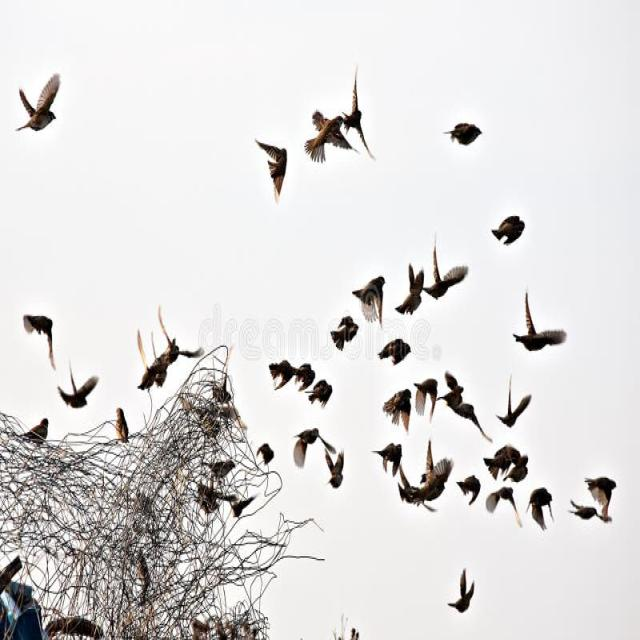bird: (394, 442, 460, 512), (437, 369, 492, 436), (512, 293, 572, 353), (298, 110, 361, 164), (15, 77, 66, 135), (136, 340, 183, 397), (572, 472, 622, 525), (254, 138, 295, 200), (386, 263, 430, 320), (479, 443, 528, 485), (349, 273, 390, 323), (480, 481, 526, 524), (287, 428, 330, 474), (264, 356, 316, 393), (282, 365, 332, 403), (56, 368, 101, 410), (491, 390, 536, 431), (440, 569, 480, 615), (430, 258, 473, 296), (21, 310, 59, 352), (488, 211, 530, 248), (525, 485, 558, 532), (380, 386, 416, 429), (320, 443, 351, 492), (325, 316, 364, 354), (370, 439, 407, 477), (446, 118, 486, 152), (16, 412, 51, 447), (302, 376, 336, 412), (377, 335, 413, 368), (454, 472, 484, 507), (2, 403, 28, 441), (110, 403, 133, 442), (255, 440, 279, 467)
